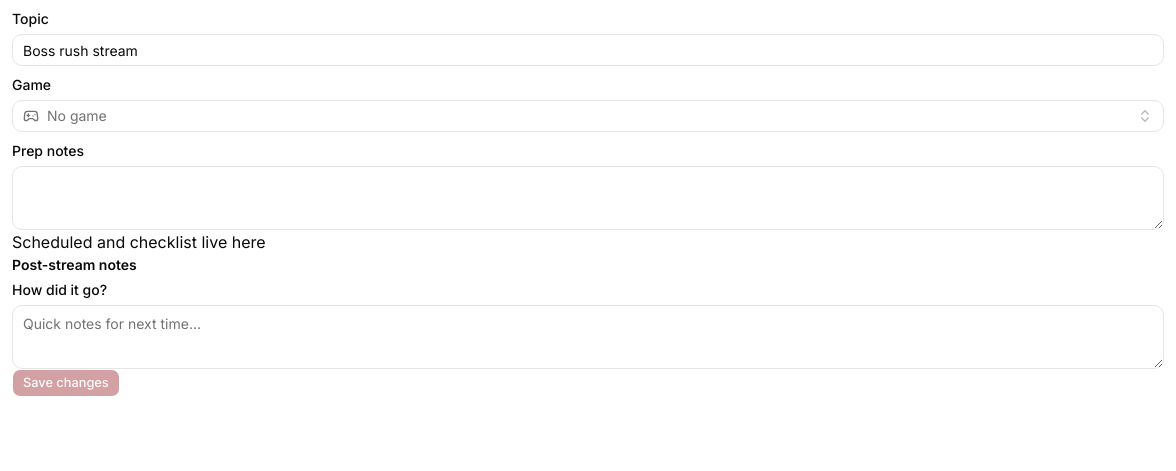
Test case: StreamDetailsForm › shows a field error on invalid input
Clear the field labelled "Topic": (588, 50) [12,34,1164,66]
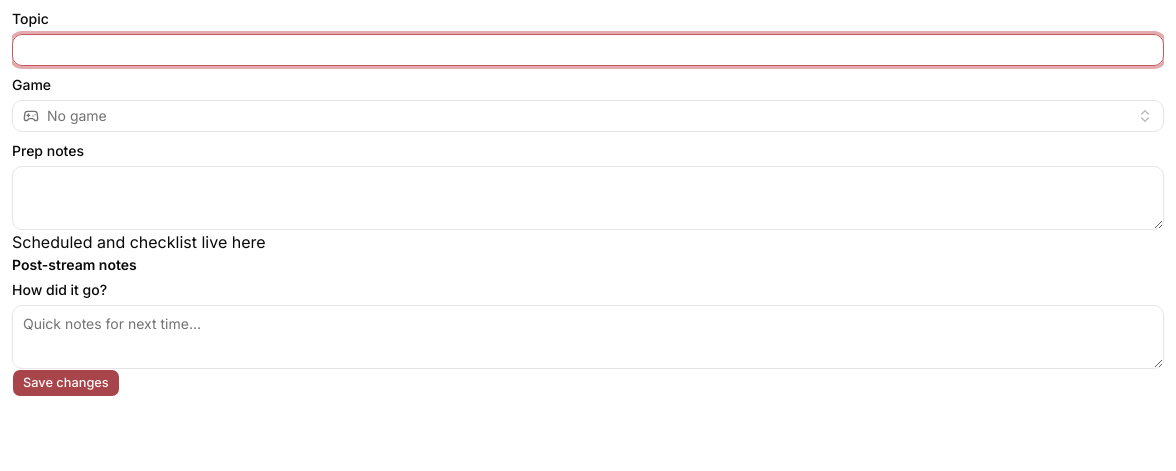
Click the button "Save changes": (66, 383) [12,369,120,397]
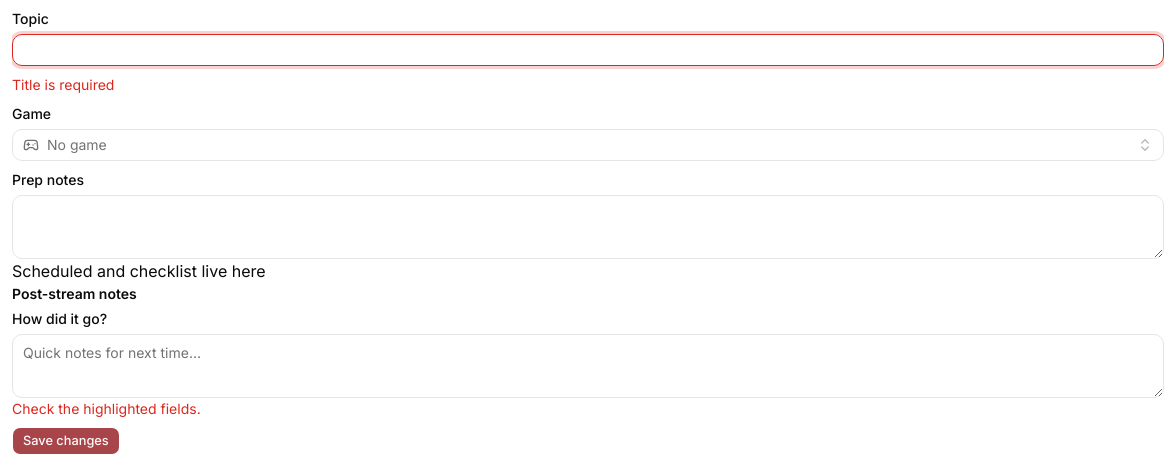
Result: the text "Title is required" is shown at [12,76,114,93]
